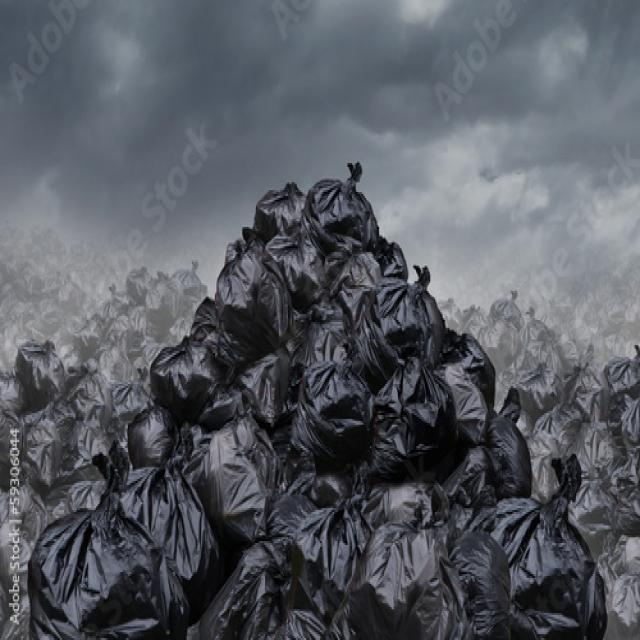trash: (14, 270, 620, 632)
